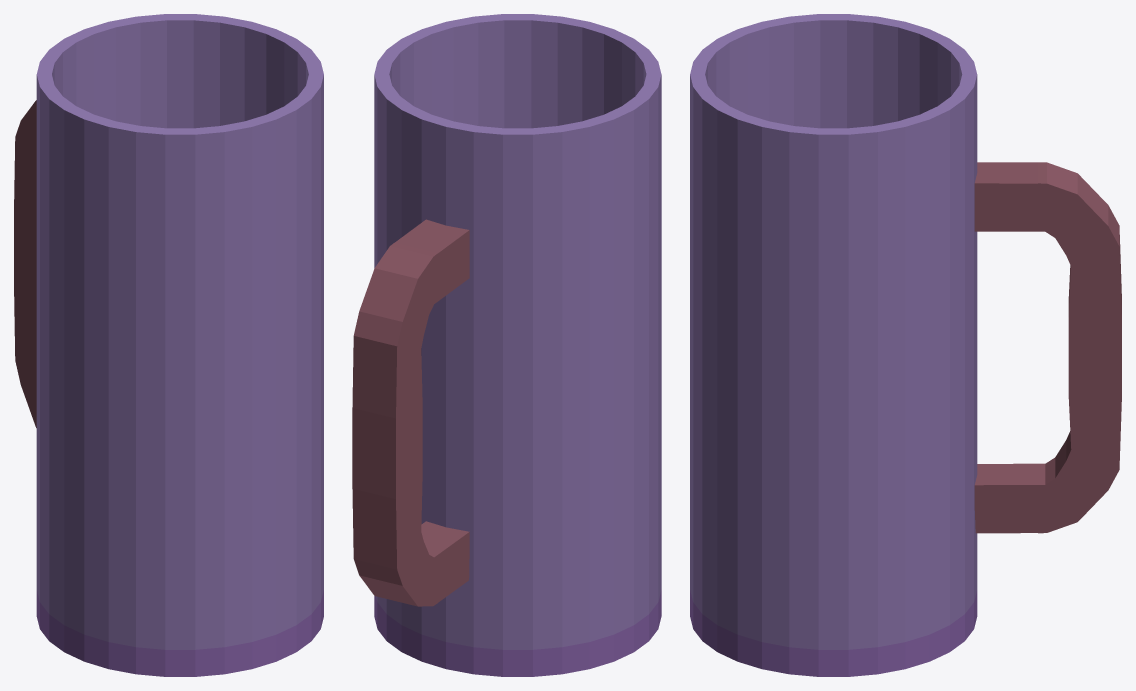
The model's file is Res01_Tumbler4.fbx.
The picture shows the model from 3 angles, left to right: view 1: azimuth 30°, elevation 25°; view 2: azimuth 150°, elevation 25°; view 3: azimuth 270°, elevation 25°; orthographic projection.
Visible parts, largest first — view 1: Res01_Tumbler4; view 2: Res01_Tumbler4; view 3: Res01_Tumbler4.
Part boxes in pixels (bbox=[...]): Res01_Tumbler4: bbox=[14, 14, 323, 676]; Res01_Tumbler4: bbox=[352, 14, 661, 676]; Res01_Tumbler4: bbox=[690, 14, 1121, 676].
Bounding box in the file's own units: 30.36 × 63.59 × 45.9.
